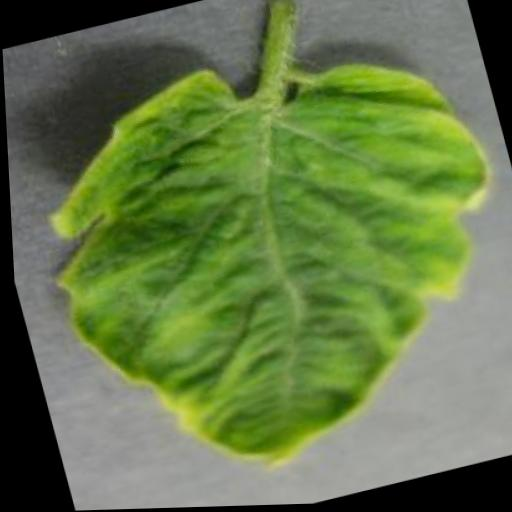Yellow Leaf Curl Virus: (5, 15, 512, 512)
